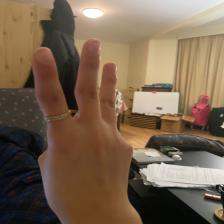five: (29, 38, 138, 208)
